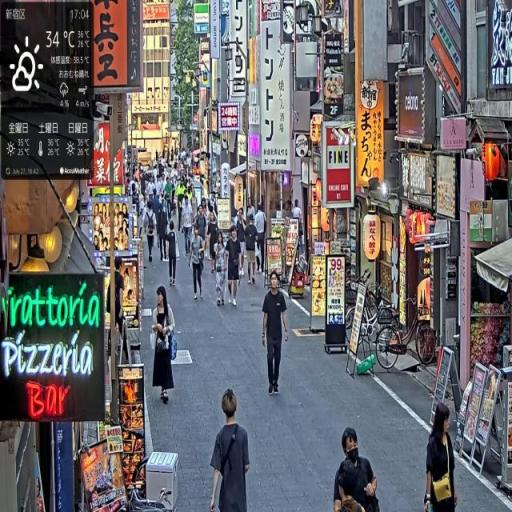person: (209, 387, 252, 512), (424, 401, 461, 512), (335, 428, 381, 512), (262, 272, 291, 398), (151, 285, 178, 403), (225, 224, 244, 309), (189, 225, 207, 304), (213, 231, 229, 309), (245, 216, 260, 287), (256, 202, 269, 278), (167, 217, 180, 289), (144, 201, 158, 265), (157, 199, 170, 264), (182, 197, 195, 261), (207, 212, 220, 275)
